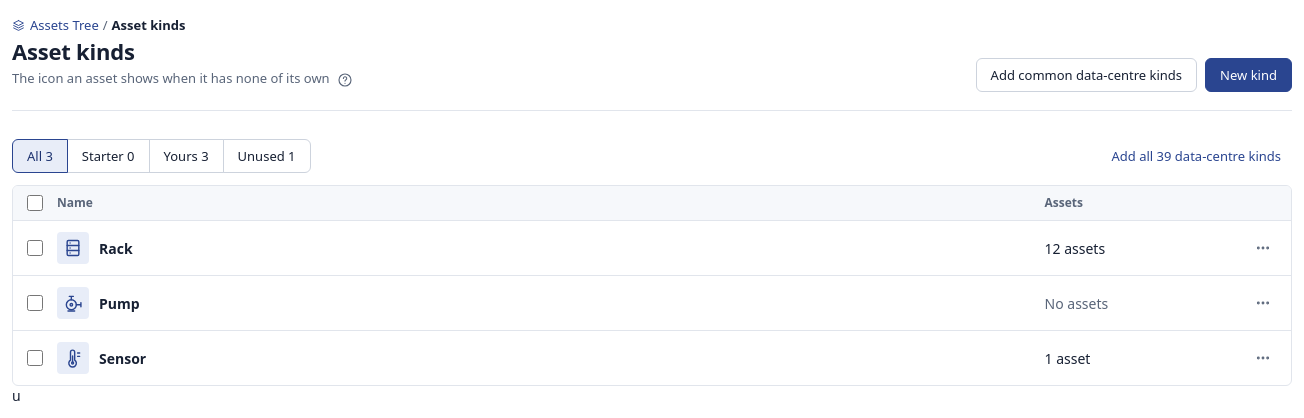
Test case: the Asset kinds page › has the title, the trail back to Assets Tree and a tip that says what a kind is for
Expected: the heading "Asset kinds" is shown, x1=12 y1=36 x2=135 y2=66
Expected: the number of icons with class "crumb-icon" is 1, x1=12 y1=16 x2=25 y2=34
Click the button named "What does this mean?". click: (345, 80)
box: x1=333 y1=68 x2=357 y2=92
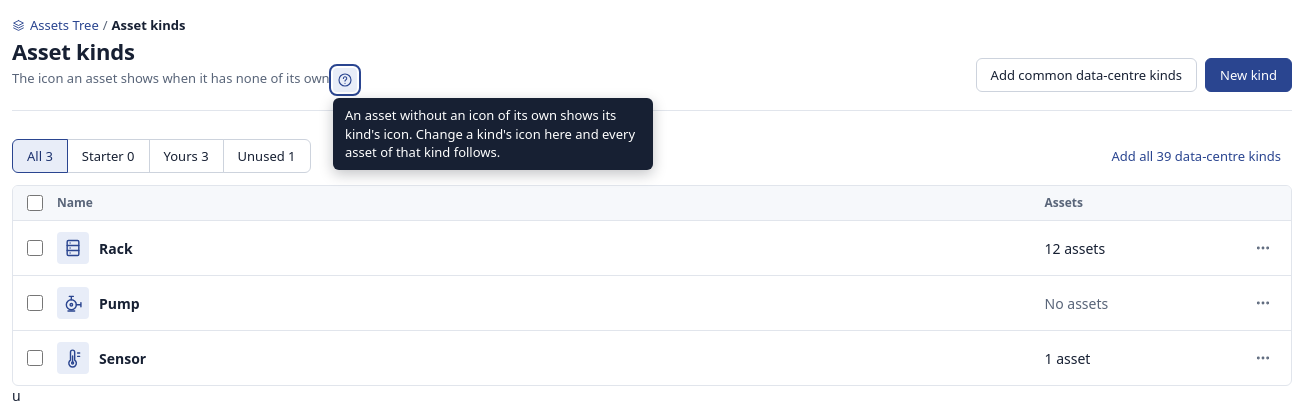
Now the text "An asset without an icon of its own shows its kind's icon. Change a kind's icon here and every asset of that kind follows." is shown, box x1=345 y1=106 x2=635 y2=161
